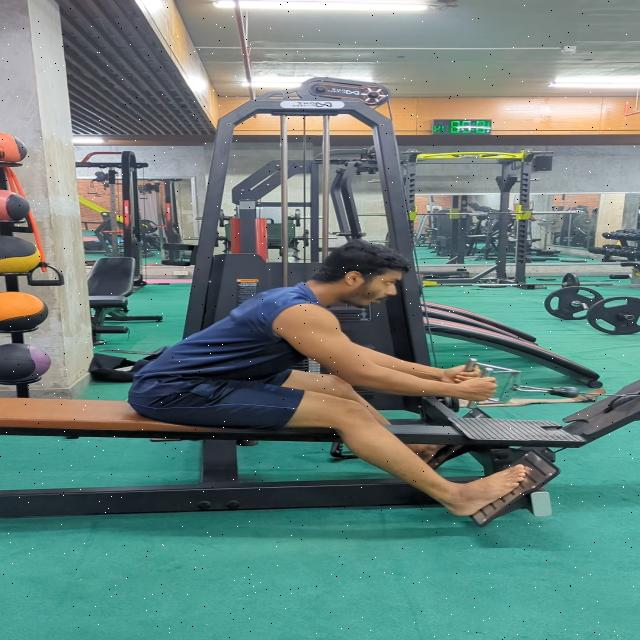Normal_RowingMachineExercise: (125, 239, 531, 517)
